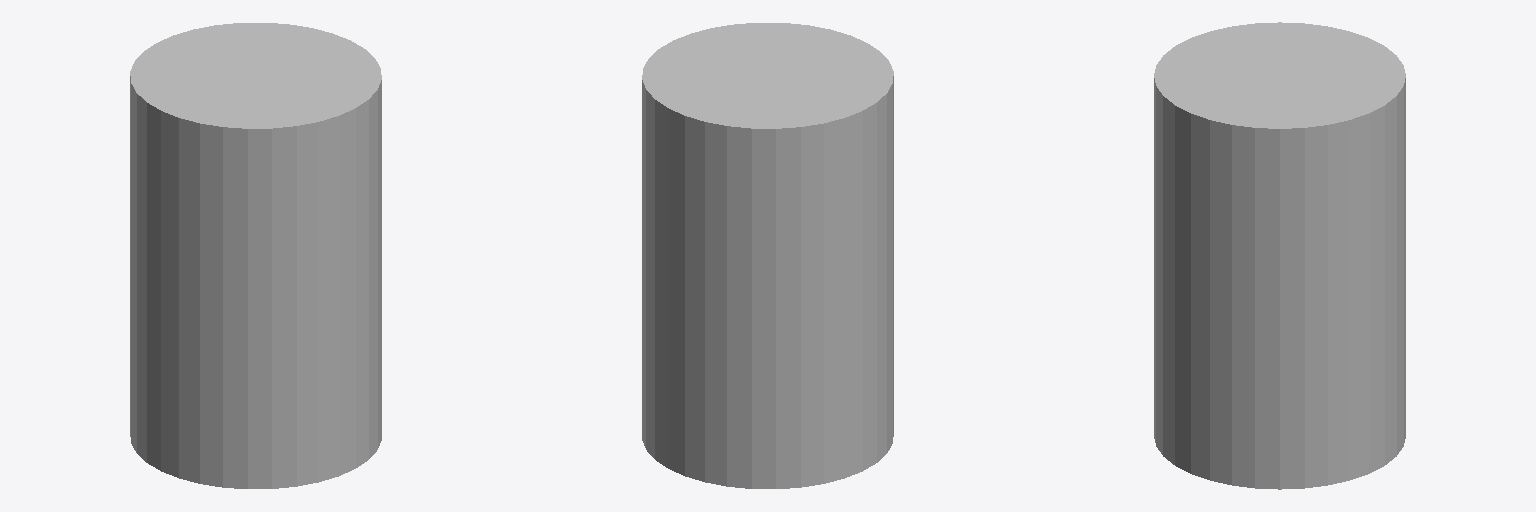
File: tree_trunk.obj
3 renders of one model, left to right at view 1: azimuth 30°, elevation 25°; view 2: azimuth 150°, elevation 25°; view 3: azimuth 270°, elevation 25°, orthographic.
Parts seen in each view (by area): view 1: Cylinder; view 2: Cylinder; view 3: Cylinder.
Boxes of the visible parts, <box> form: Cylinder: <box>130,23,381,488</box>; Cylinder: <box>642,23,893,488</box>; Cylinder: <box>1154,22,1405,489</box>.
Size of the model in its own units: 0.6187 by 0.9759 by 0.6187.